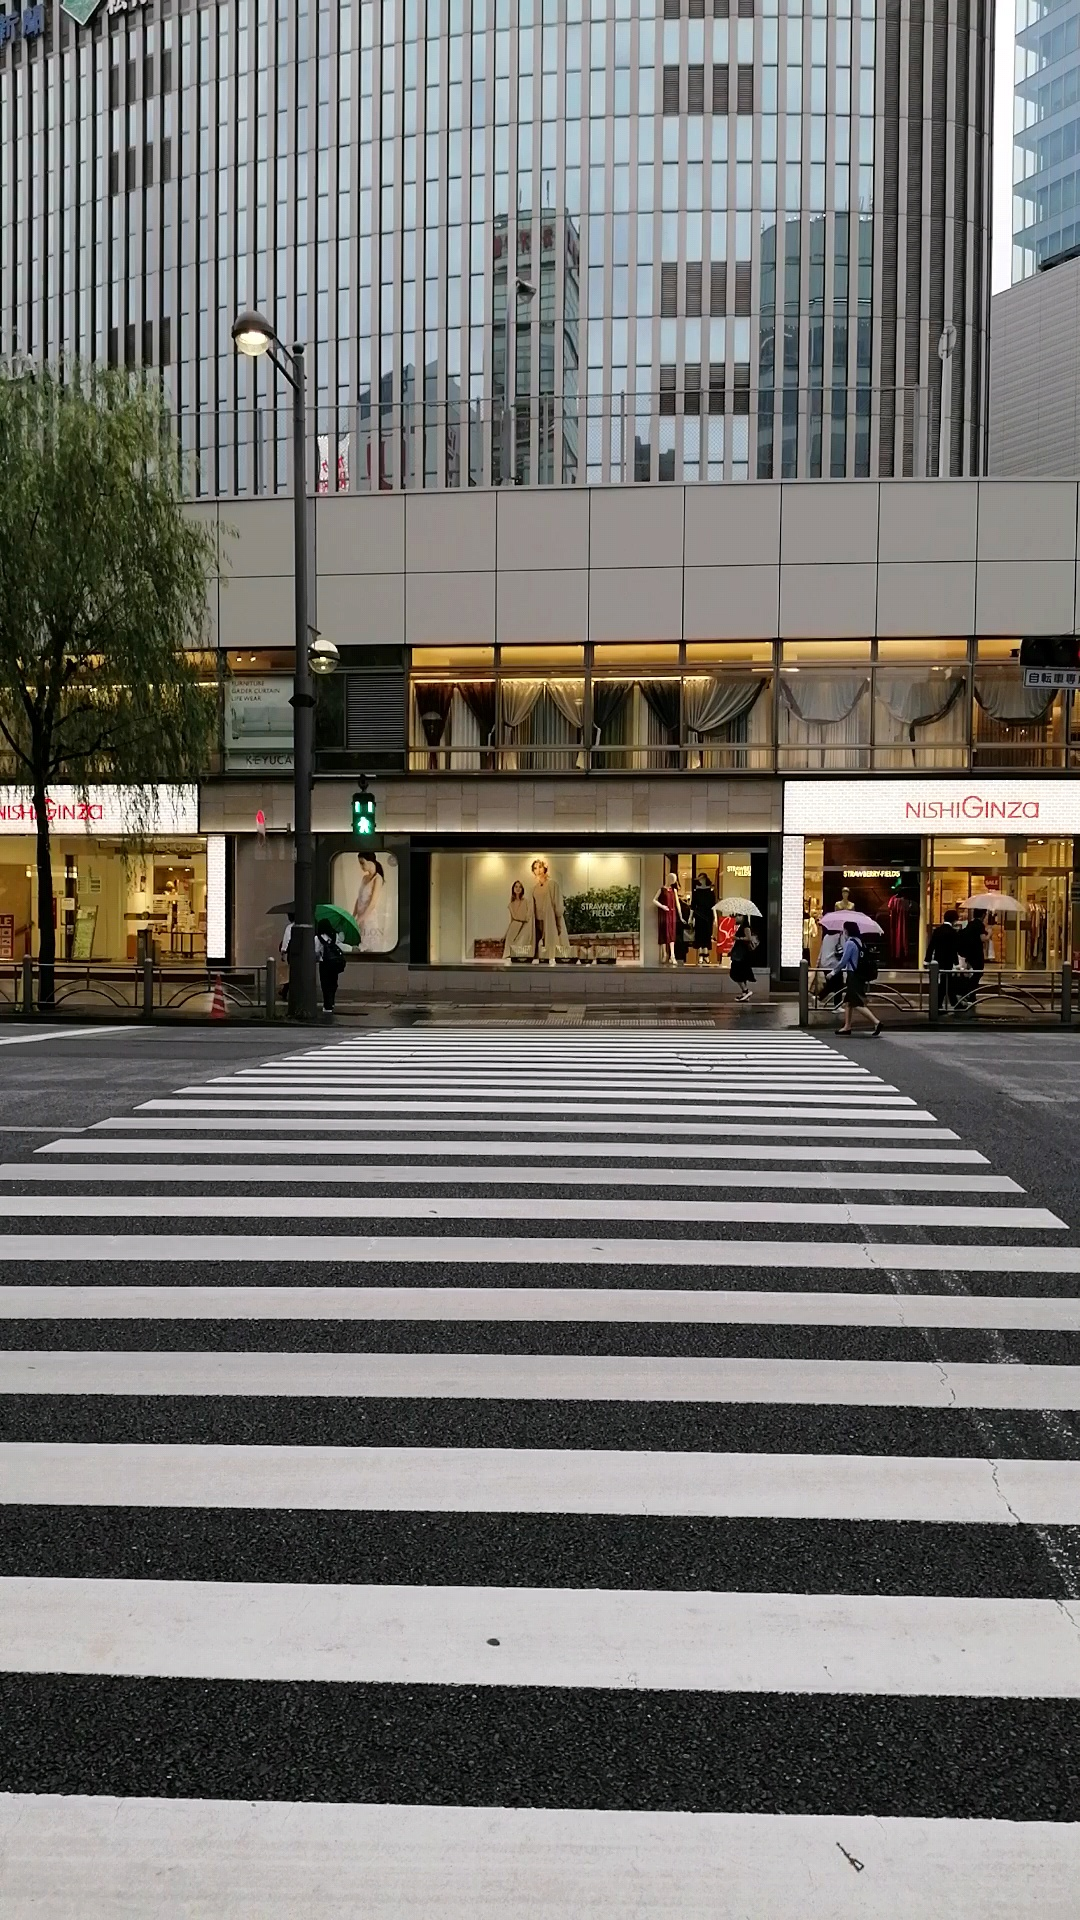green: (348, 793, 373, 843)
